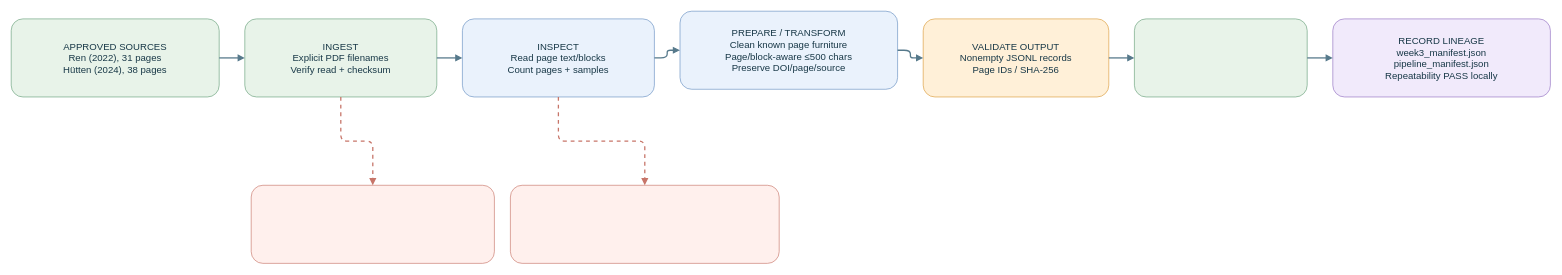
Image size: 1562x275. Some labels were removed from this diagram. Each missing label, with the centre of its shape:
FAILURE #1 Missing/corrupt PDF STOP, request valid input: [372,224]
FAILURE #2 Blank/garbled text STOP, flag OCR/layout review: [644,224]
PREPARED OUTPUTS Part B + C JSONL 663 chunks: [1220,57]
